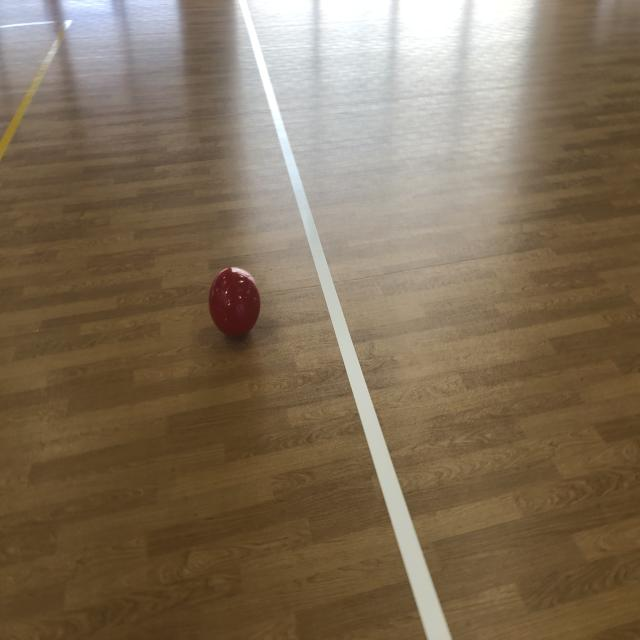red_ball: (208, 267, 260, 338)
